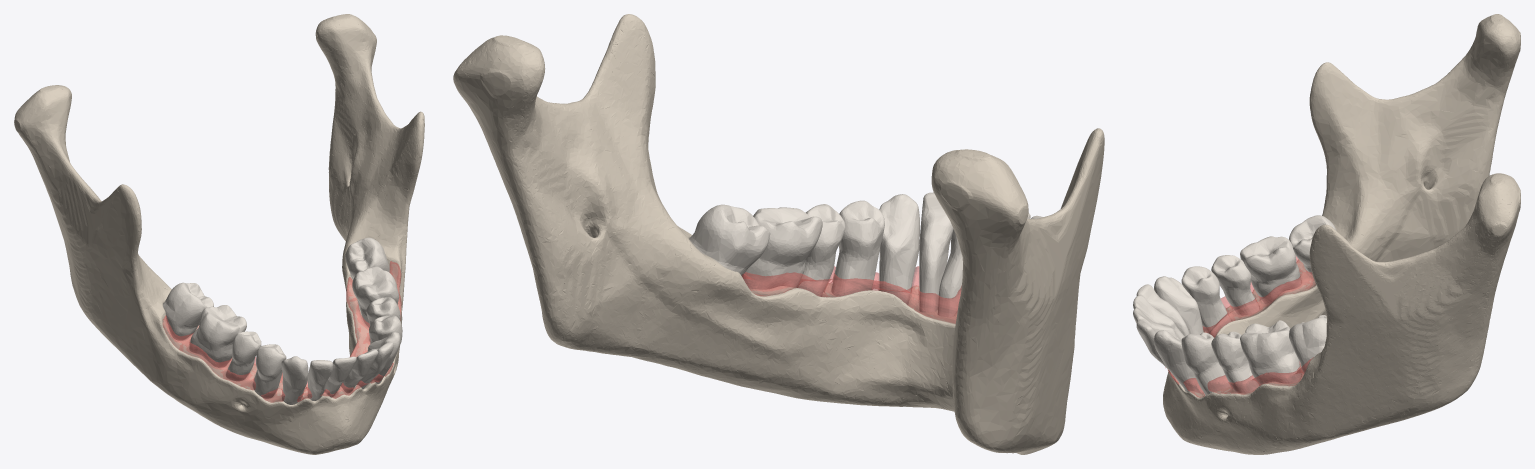
File: stage-2.glb
3 views of the same model, side by side, from view 1: azimuth 30°, elevation 25°; view 2: azimuth 150°, elevation 25°; view 3: azimuth 270°, elevation 25° (orthographic). The views are drawn at different scales.
Parts seen in each view (by area): view 1: bone, teeth, lost; view 2: bone, teeth, lost; view 3: bone, teeth, lost.
Part boxes in pixels (left/top/right/bottom): bone: left=14, top=14, right=424, bottom=454; teeth: left=163, top=237, right=402, bottom=404; lost: left=162, top=261, right=401, bottom=402; bone: left=453, top=14, right=1104, bottom=454; teeth: left=689, top=192, right=1042, bottom=316; lost: left=741, top=266, right=961, bottom=323; bone: left=1163, top=14, right=1520, bottom=454; teeth: left=1133, top=215, right=1336, bottom=395; lost: left=1165, top=256, right=1315, bottom=397.
Bounding box in the file's own units: 0.1032 × 0.082 × 0.0867.
